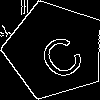C: (30, 25, 88, 83)
